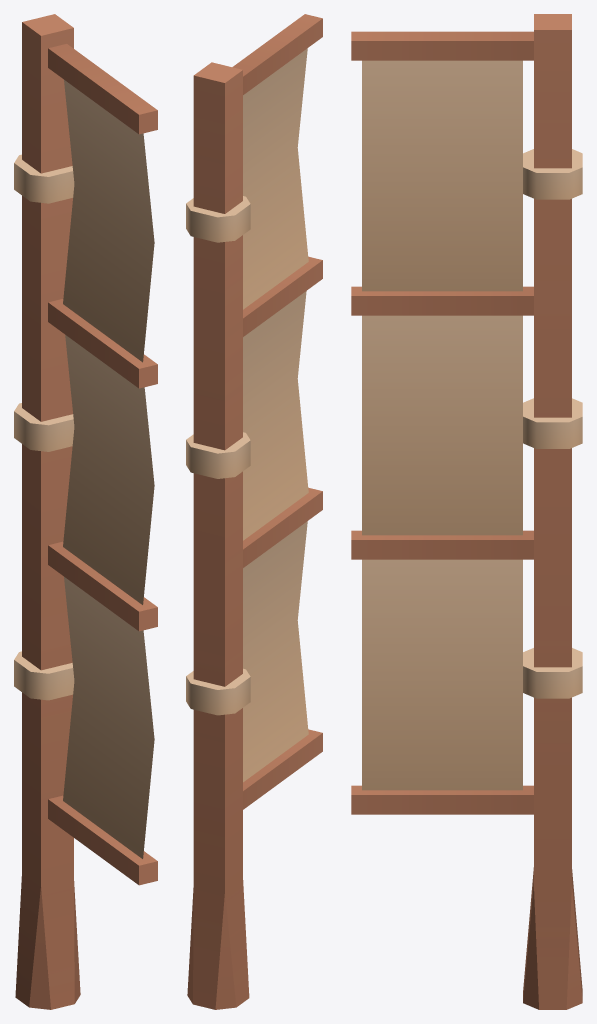
File: blade.glb
The picture shows the model from 3 angles, left to right: view 1: azimuth 30°, elevation 25°; view 2: azimuth 150°, elevation 25°; view 3: azimuth 270°, elevation 25°; orthographic projection. The views are drawn at different scales.
Parts seen in each view (by area): view 1: blade; view 2: blade; view 3: blade.
Boxes of the visible parts, box(x1,y1,x2,y2) form: blade: box(14, 14, 157, 1009); blade: box(186, 14, 322, 1009); blade: box(351, 14, 582, 1009).
Size of the model in its own units: 0.111 by 2 by 0.4303.
Materials: 1 (1 with a texture image).
